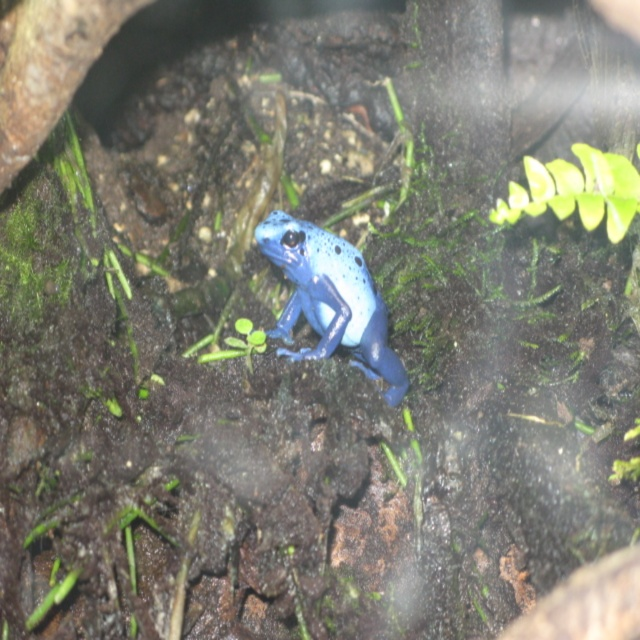Frog: (254, 211, 410, 408)
